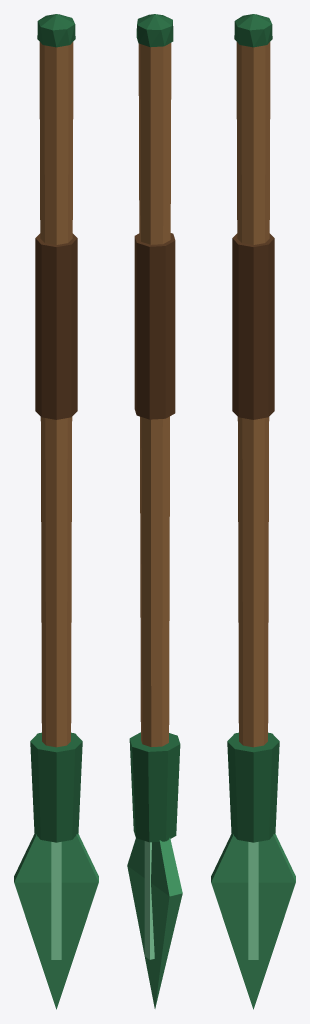
File: held_adamant_spear.glb
3 views of the same model, side by side, from view 1: azimuth 90°, elevation 25°; view 2: azimuth 210°, elevation 25°; view 3: azimuth 270°, elevation 25° (orthographic).
Visible parts, largest first — view 1: held_adamant_spear; view 2: held_adamant_spear; view 3: held_adamant_spear.
Part boxes in pixels (bbox=[...]): held_adamant_spear: bbox=[14, 14, 98, 1009]; held_adamant_spear: bbox=[127, 14, 182, 1008]; held_adamant_spear: bbox=[211, 14, 295, 1009].
Bounding box in the file's own units: 0.062 × 1.3 × 0.1.
